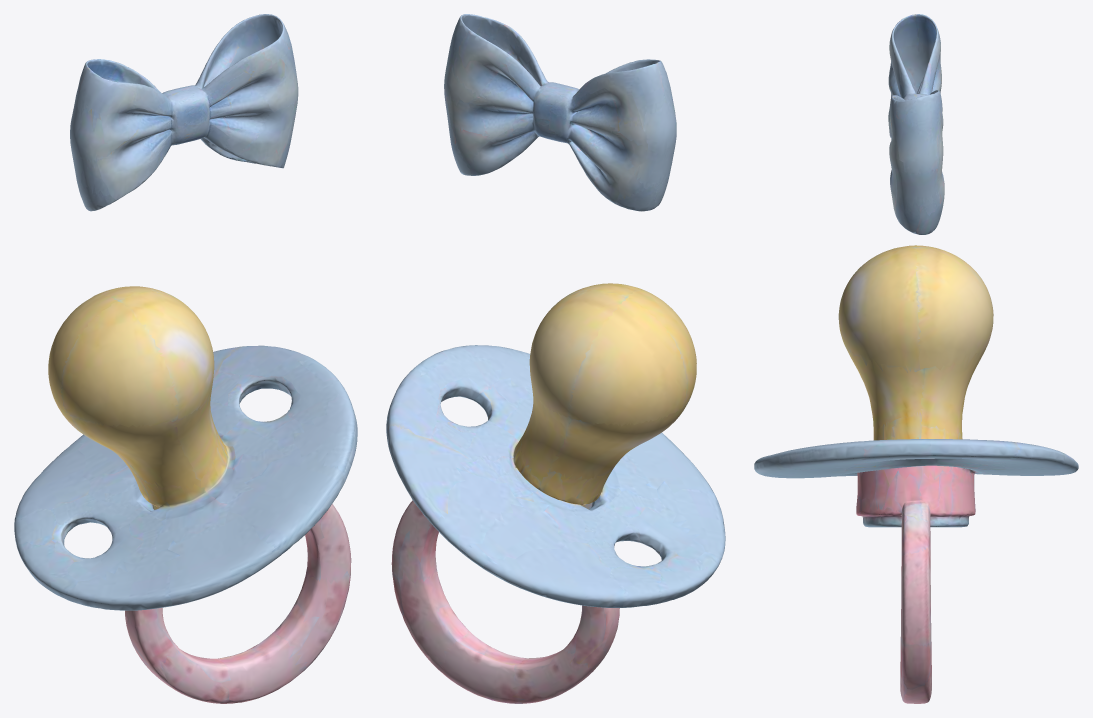
3 views of the same model, side by side, from view 1: azimuth 30°, elevation 25°; view 2: azimuth 150°, elevation 25°; view 3: azimuth 270°, elevation 25° (orthographic). The views are drawn at different scales.
Visible parts, largest first — view 1: Mesh 1, Mesh 2; view 2: Mesh 1, Mesh 2; view 3: Mesh 1, Mesh 2.
Boxes of the visible parts, bbox=[...] form: Mesh 1: bbox=[14, 286, 357, 703]; Mesh 2: bbox=[70, 14, 298, 211]; Mesh 1: bbox=[386, 283, 725, 703]; Mesh 2: bbox=[444, 14, 676, 211]; Mesh 1: bbox=[754, 245, 1078, 703]; Mesh 2: bbox=[888, 14, 944, 234].
Bounding box in the file's own units: 0.8531 × 1.79 × 0.8588.
2 materials, 2 textured.
